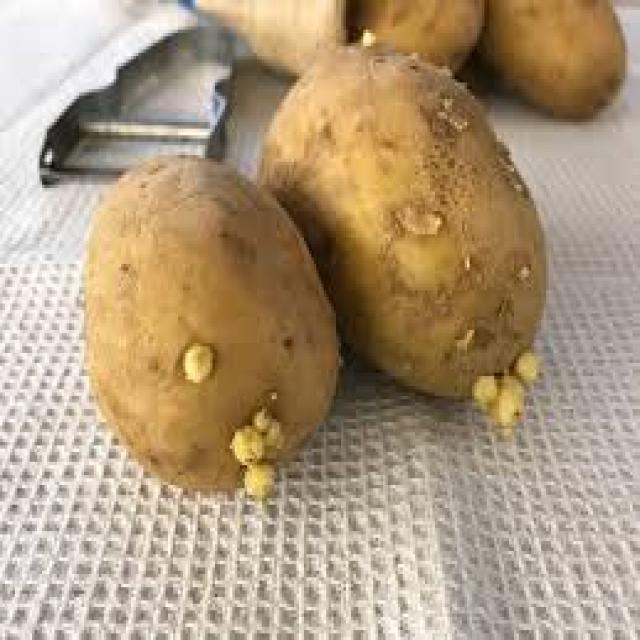Potato: (258, 28, 563, 434), (72, 160, 359, 531)
